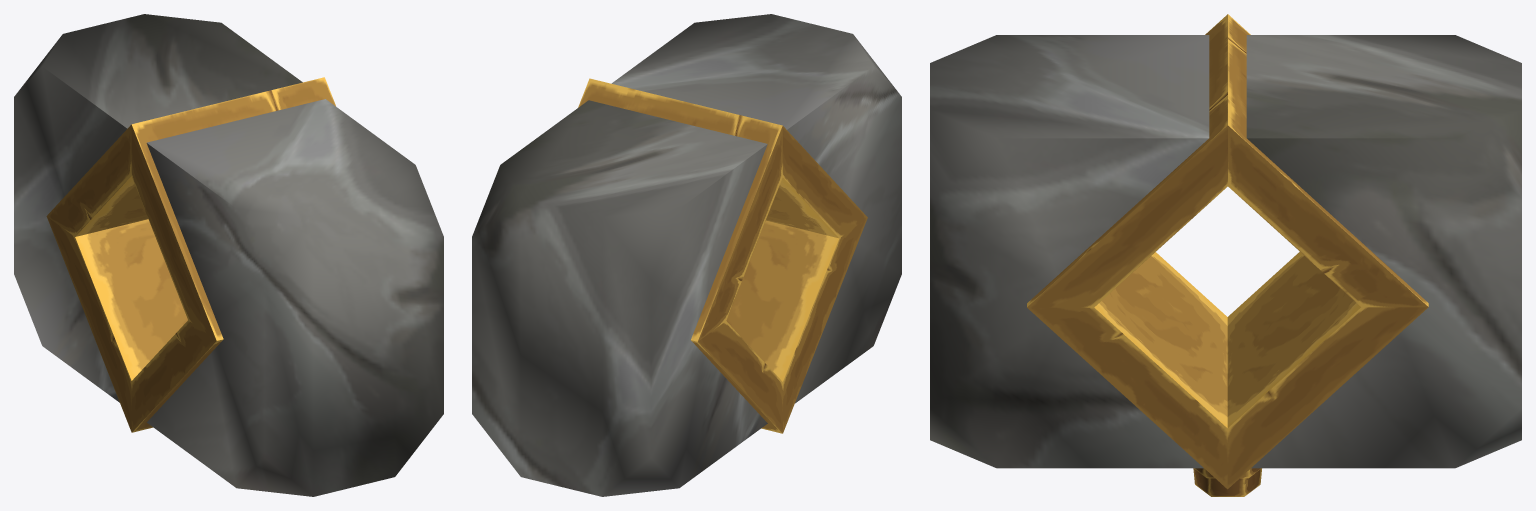
The model's file is SM_WEP_head_hammer_battle_18.fbx.
3 renders of one model, left to right at view 1: azimuth 30°, elevation 25°; view 2: azimuth 150°, elevation 25°; view 3: azimuth 270°, elevation 25°, orthographic. The views are drawn at different scales.
Parts seen in each view (by area): view 1: SM_WEP_head_hammer_battle_18; view 2: SM_WEP_head_hammer_battle_18; view 3: SM_WEP_head_hammer_battle_18.
Boxes of the visible parts, x1,y1,x2,y2 form: SM_WEP_head_hammer_battle_18: [14, 14, 443, 496]; SM_WEP_head_hammer_battle_18: [472, 14, 901, 496]; SM_WEP_head_hammer_battle_18: [930, 14, 1521, 496].
Size of the model in its own units: 25.99 by 45.19 by 58.4.
